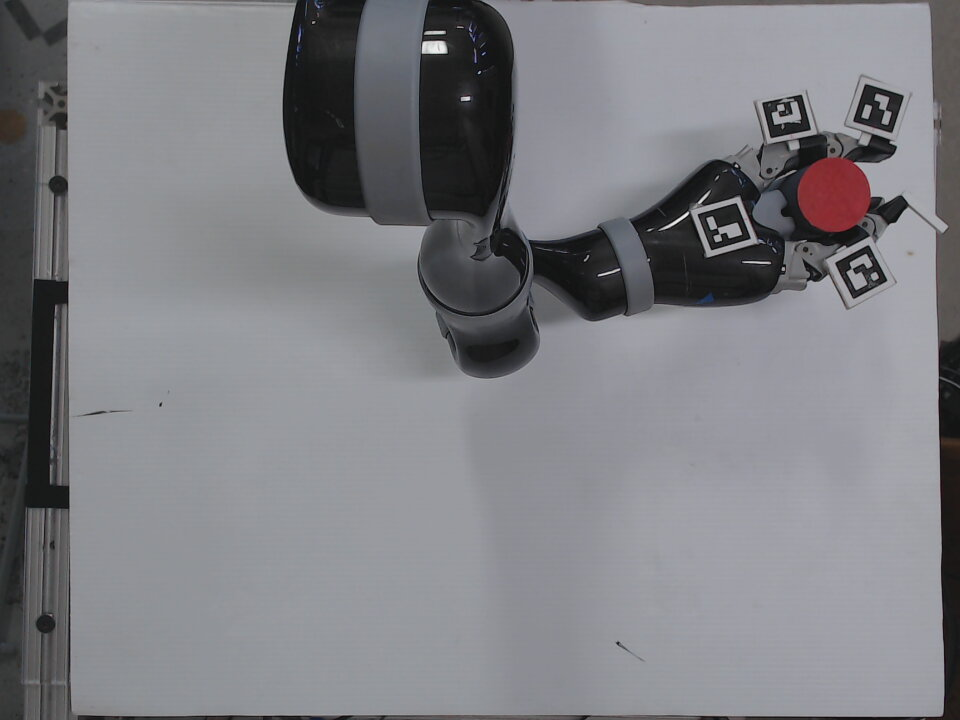cylinder: (781, 155, 876, 238)
